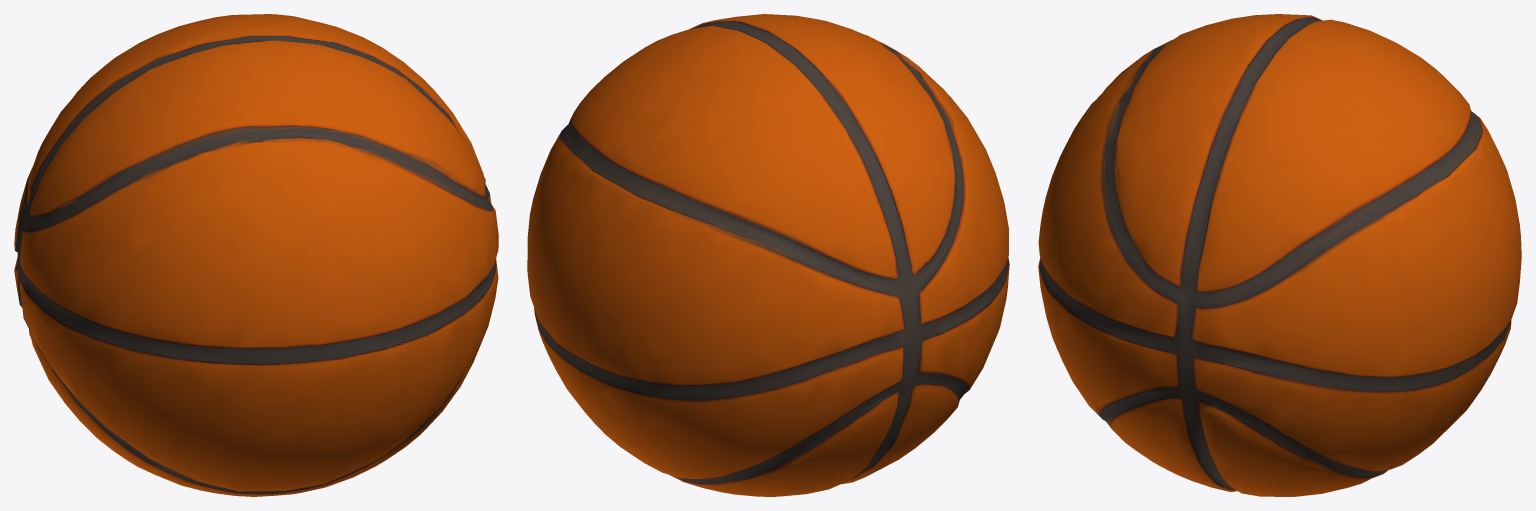
The model's file is basketball.glb.
3 renders of one model, left to right at view 1: azimuth 30°, elevation 25°; view 2: azimuth 150°, elevation 25°; view 3: azimuth 270°, elevation 25°, orthographic.
Parts seen in each view (by area): view 1: tripo_node_89bb45c3-18a2-4c18-89c5-9542560406de; view 2: tripo_node_89bb45c3-18a2-4c18-89c5-9542560406de; view 3: tripo_node_89bb45c3-18a2-4c18-89c5-9542560406de.
Boxes of the visible parts, left/top/right/bottom form: tripo_node_89bb45c3-18a2-4c18-89c5-9542560406de: left=14, top=14, right=498, bottom=496; tripo_node_89bb45c3-18a2-4c18-89c5-9542560406de: left=527, top=14, right=1009, bottom=496; tripo_node_89bb45c3-18a2-4c18-89c5-9542560406de: left=1038, top=14, right=1521, bottom=496.
Size of the model in its own units: 1 by 1 by 1.
1 material, 1 textured.
